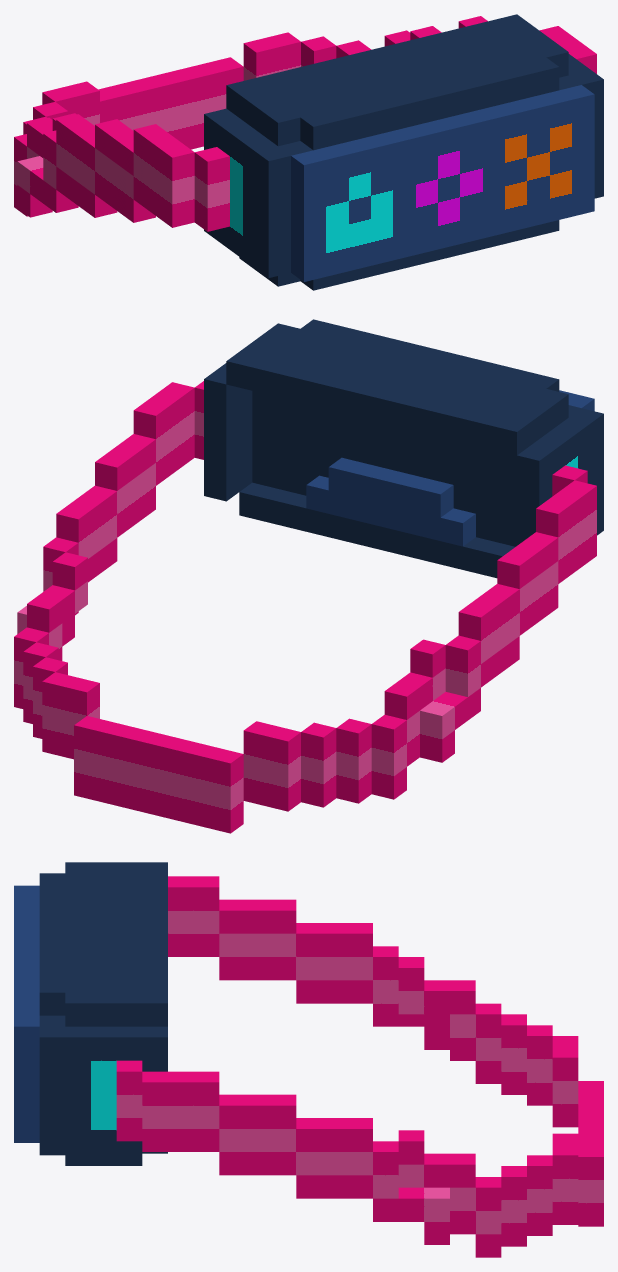
The model's file is lazer light_airpods.gltf.
The picture shows the model from 3 angles, top to bottom: view 1: azimuth 30°, elevation 25°; view 2: azimuth 150°, elevation 25°; view 3: azimuth 270°, elevation 25°; orthographic projection.
Visible parts, largest first — view 1: C02_E_Airpods_LazerL-Mesh; view 2: C02_E_Airpods_LazerL-Mesh; view 3: C02_E_Airpods_LazerL-Mesh.
Part boxes in pixels (bbox=[...]): C02_E_Airpods_LazerL-Mesh: bbox=[14, 14, 603, 290]; C02_E_Airpods_LazerL-Mesh: bbox=[14, 319, 603, 833]; C02_E_Airpods_LazerL-Mesh: bbox=[14, 862, 603, 1257].
Size of the model in its own units: 19 by 11 by 23.
Materials: 1 (1 with a texture image).
